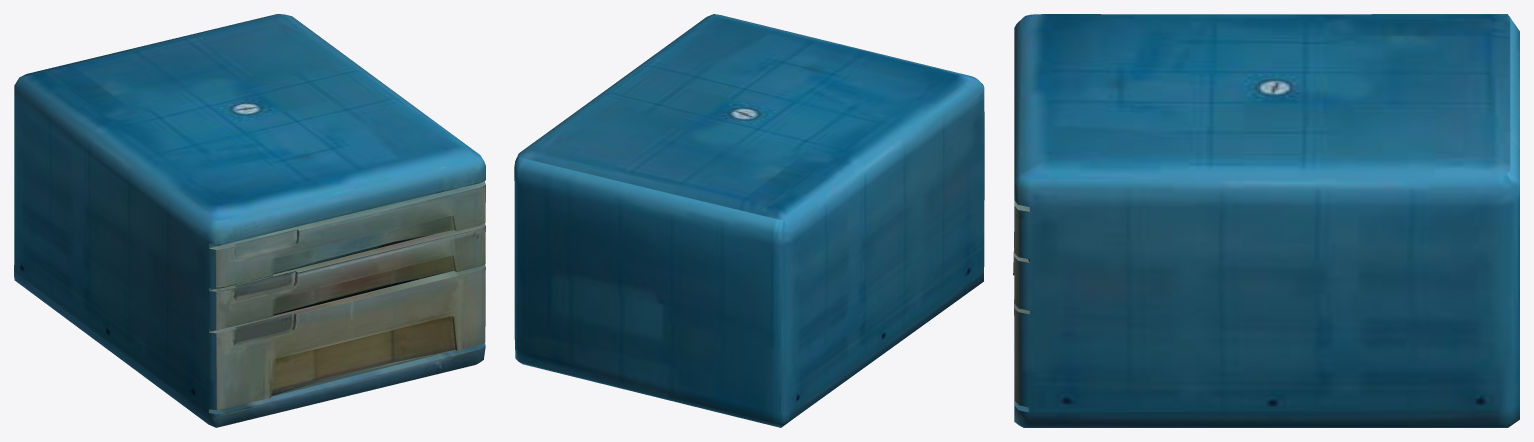
File: paper_rack-6.FBX
3 renders of one model, left to right at view 1: azimuth 30°, elevation 25°; view 2: azimuth 150°, elevation 25°; view 3: azimuth 270°, elevation 25°, orthographic. The views are drawn at different scales.
Visible parts, largest first — view 1: paper_rack-6_LOD0; view 2: paper_rack-6_LOD0; view 3: paper_rack-6_LOD0.
Part boxes in pixels (x1=…): paper_rack-6_LOD0: x1=14, y1=14, x2=485, y2=427; paper_rack-6_LOD0: x1=514, y1=14, x2=984, y2=427; paper_rack-6_LOD0: x1=1013, y1=14, x2=1519, y2=427.
Size of what is drawn, in the model's own units: 20.98 by 15.39 by 26.8.
